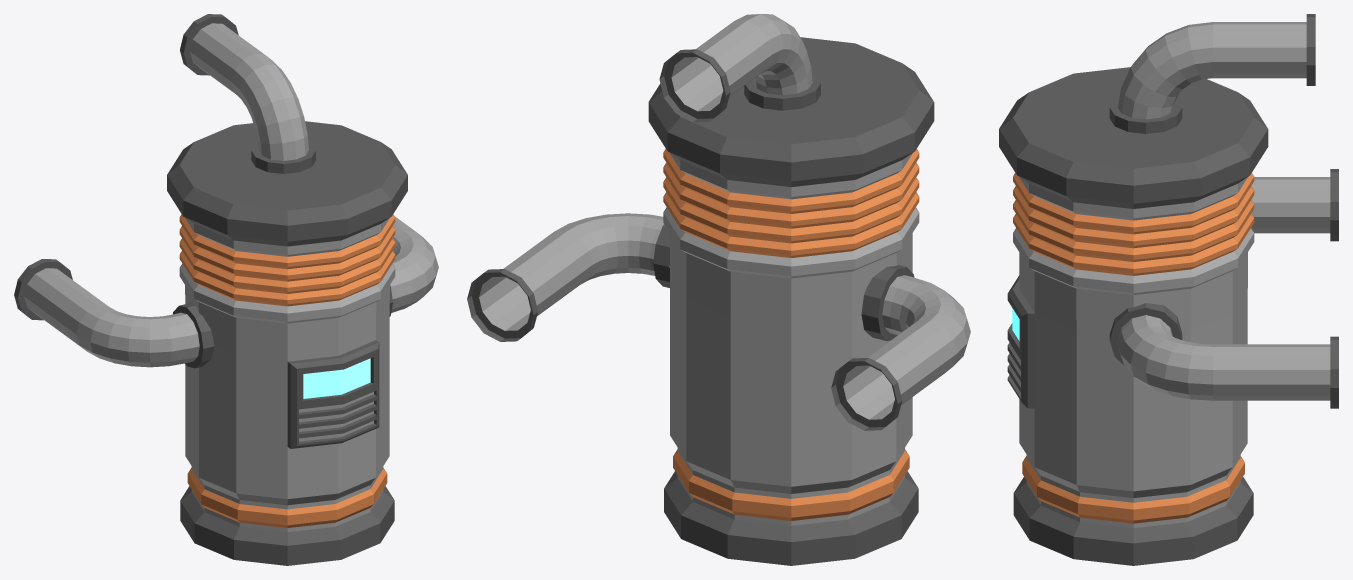
The model's file is SM_Tubinator.fbx.
3 renders of one model, left to right at view 1: azimuth 30°, elevation 25°; view 2: azimuth 150°, elevation 25°; view 3: azimuth 270°, elevation 25°, orthographic. The views are drawn at different scales.
Parts seen in each view (by area): view 1: SM_Tubinator, SM_TubinatorFilter; view 2: SM_Tubinator; view 3: SM_Tubinator, SM_TubinatorFilter.
Part boxes in pixels (<box>): SM_Tubinator: <box>14,14,438,565</box>; SM_TubinatorFilter: <box>287,340,379,448</box>; SM_Tubinator: <box>467,14,970,565</box>; SM_Tubinator: <box>999,14,1338,565</box>; SM_TubinatorFilter: <box>1007,275,1034,408</box>.
Bounding box in the file's own units: 183 × 215 × 133.
